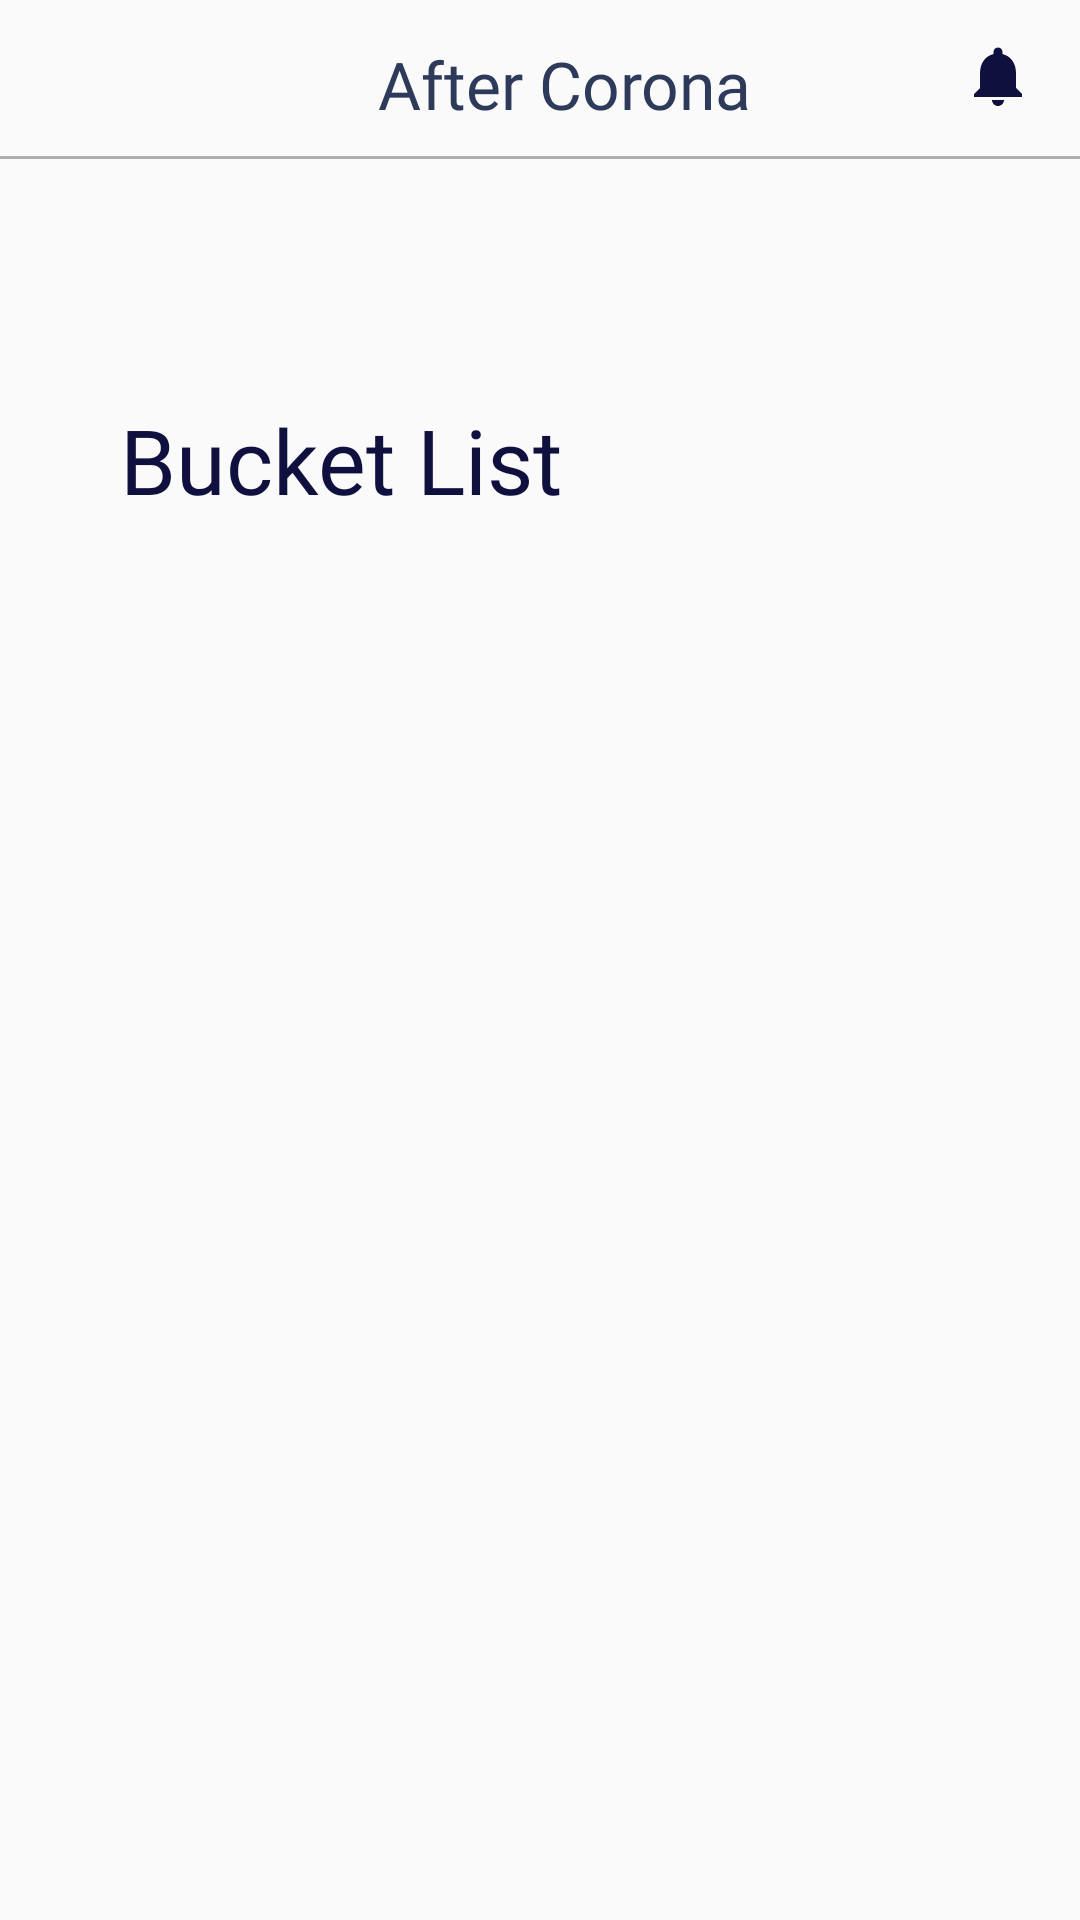

Named icons in this screenshot (1080 × 1920) and their bounding boxes, (x1, y1, x2, y2):
notifications: (974, 47, 1022, 106)
